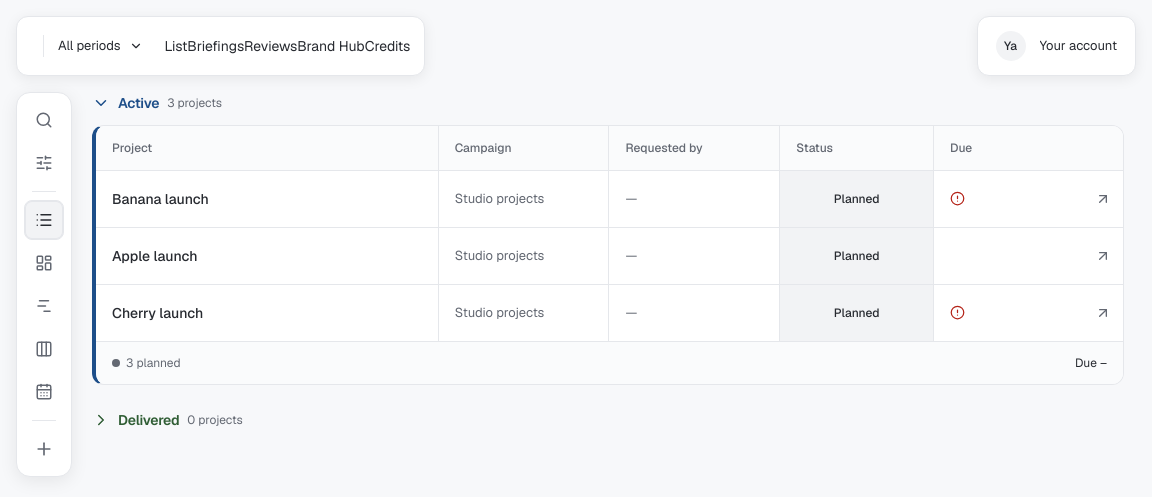
Test: BoardPage list sort › sorts Due with undated projects always last, and a new column restarts ascending
Click the button "Due": click(1008, 148) x1=933 y1=126 x2=1083 y2=170
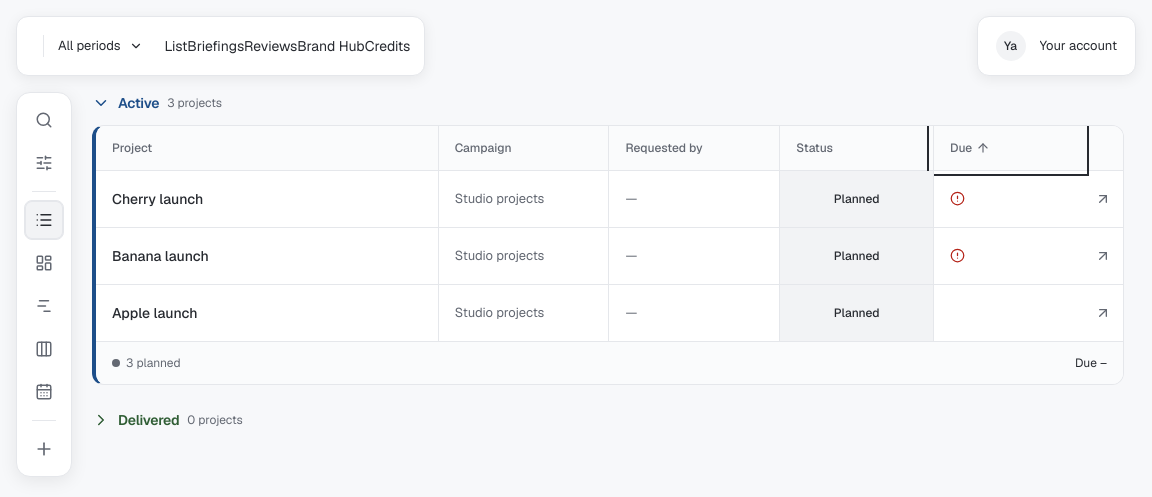
Expected: the button with aria-label "Due, earliest first. Click to reverse" is shown
Click the button with aria-label "Due, earliest first. Click to reverse": click(1008, 148) x1=933 y1=126 x2=1083 y2=170
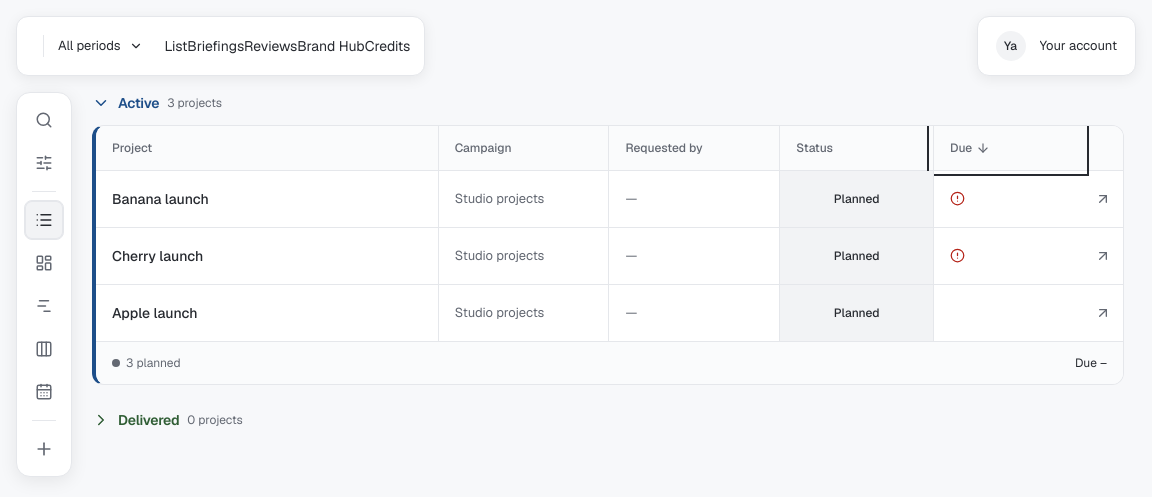
Expected: the button with aria-label "Due, latest first. Click for the default order" is shown, x1=933 y1=126 x2=1083 y2=170
Click the button "Project": click(132, 148) x1=96 y1=126 x2=438 y2=170
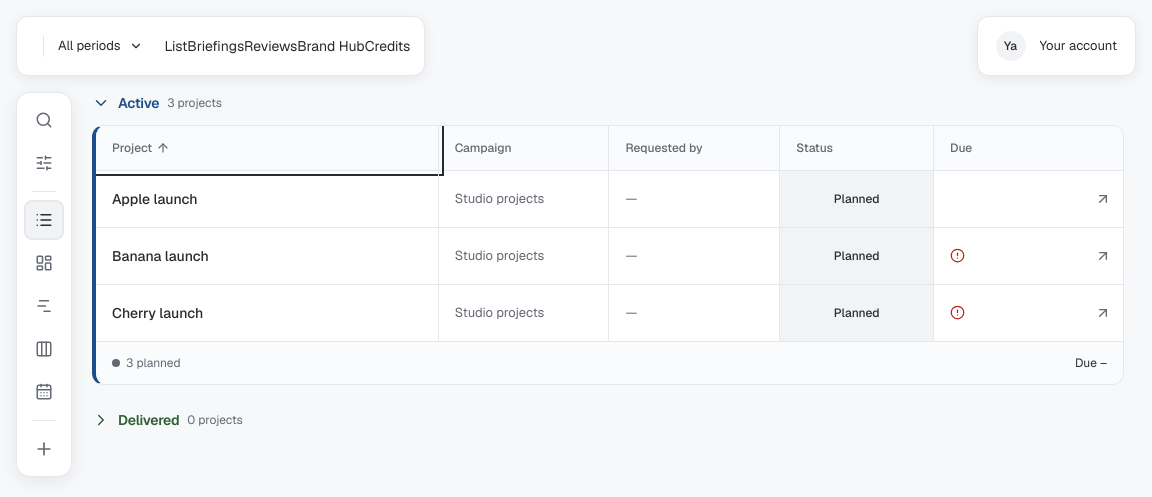
Expected: the button with aria-label "Project, A to Z. Click to reverse" is shown, x1=96 y1=126 x2=438 y2=170
